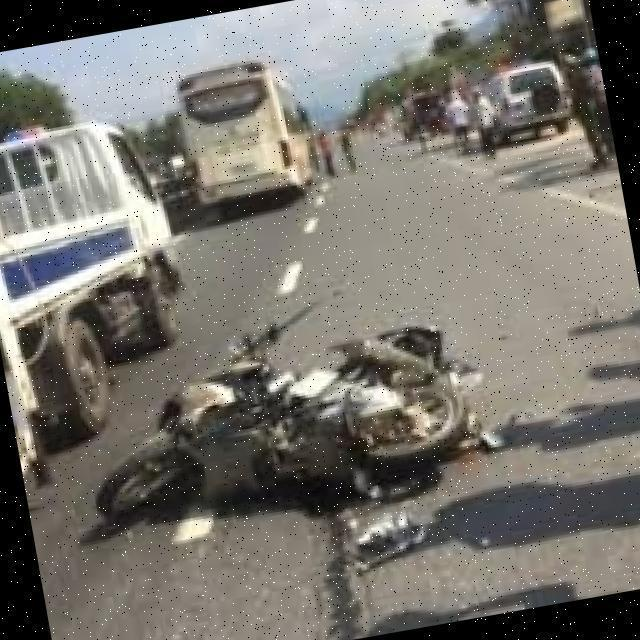accident: (59, 236, 538, 591)
